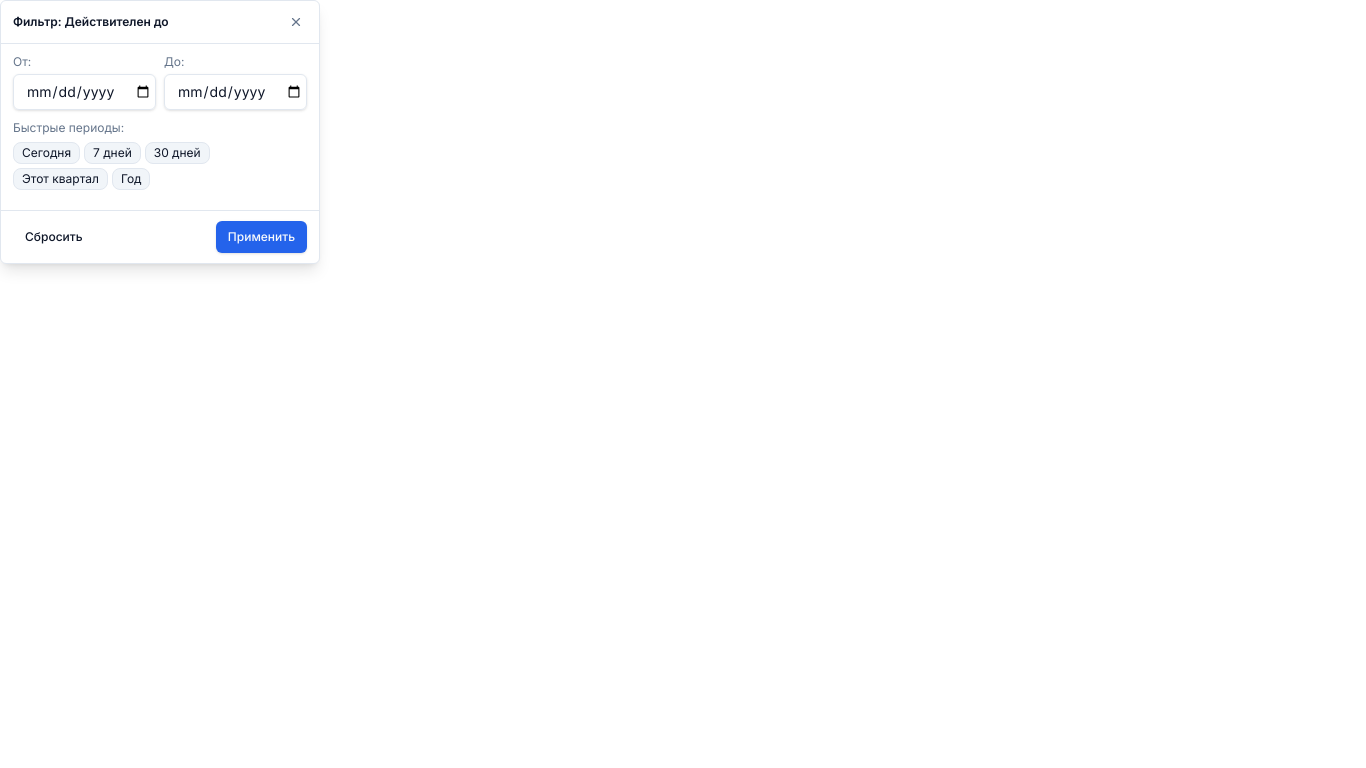
DateFilterPopover — system-range › shows validation error when from > to
Type "2026-12-31" into the date field with id "date-from-expiry_date".
click(84, 92); type("2026-12-31")  # box x1=13 y1=74 x2=156 y2=110
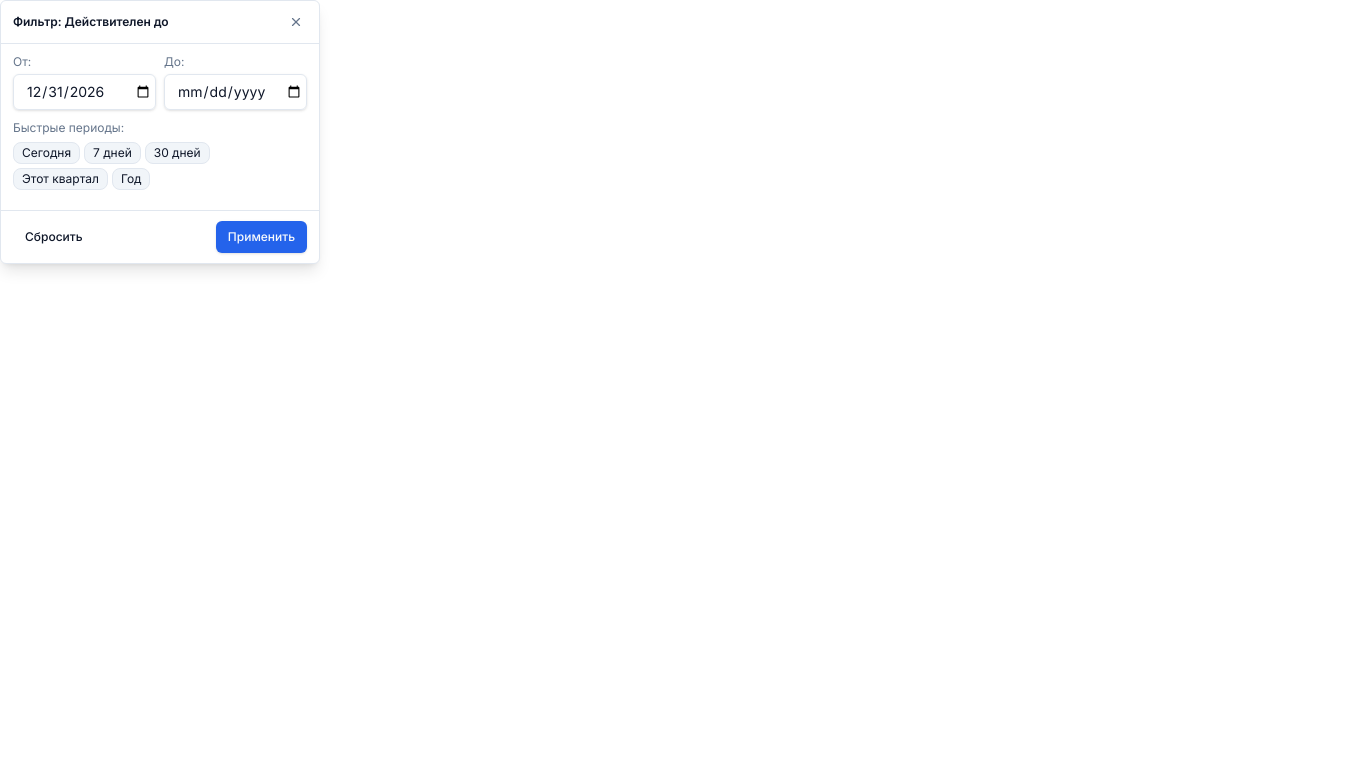
Type "2026-01-01" into the date field with id "date-to-expiry_date".
click(236, 92); type("2026-01-01")  # box x1=164 y1=74 x2=307 y2=110
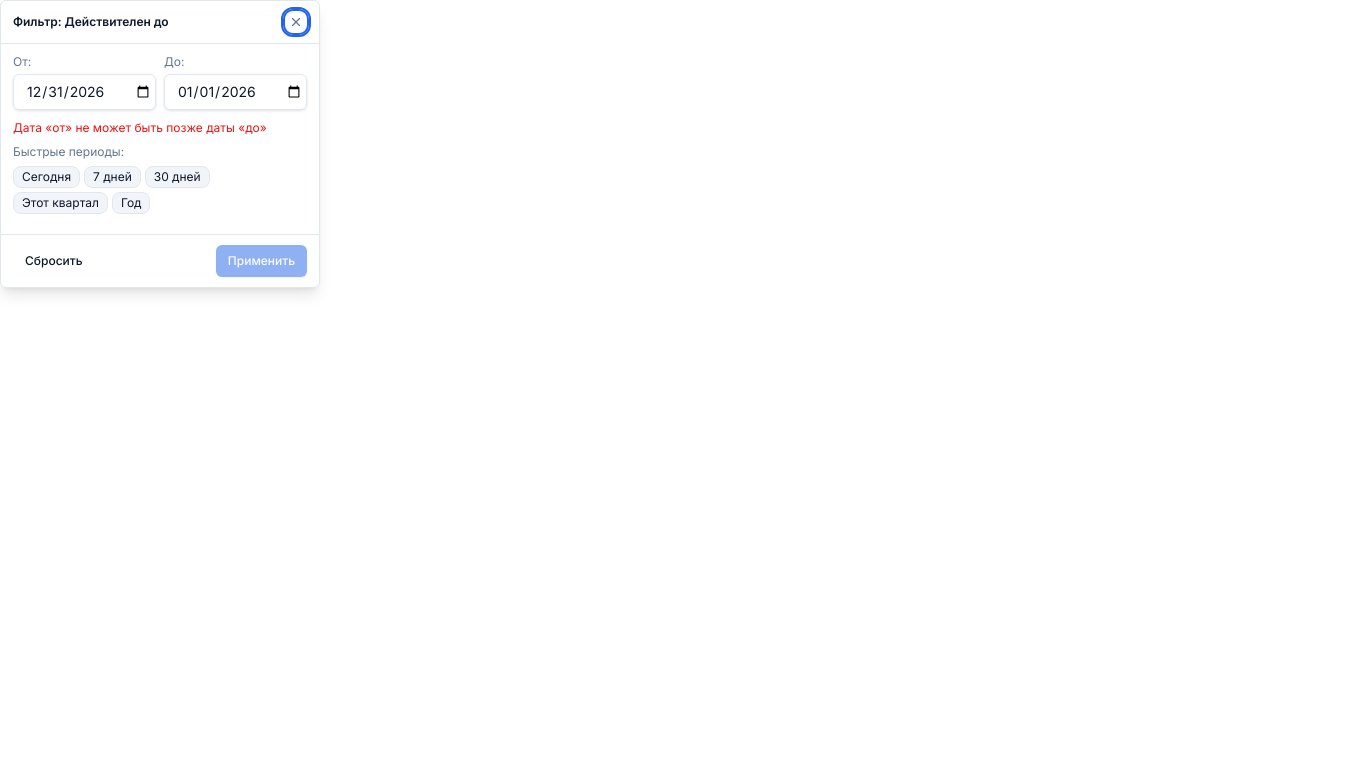
Result: the message "Дата «от» не может быть позже даты «до»" is shown at x1=13 y1=120 x2=307 y2=136
